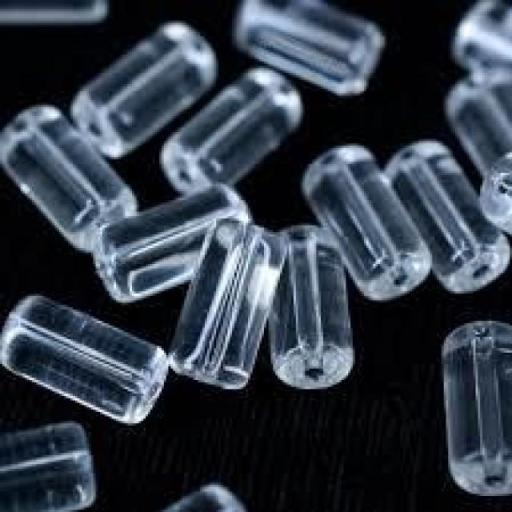glass: (174, 206, 284, 398), (4, 293, 163, 423), (4, 107, 133, 253), (71, 22, 211, 156), (305, 148, 425, 299), (388, 142, 504, 291), (98, 185, 245, 300), (162, 70, 296, 194), (268, 228, 354, 388), (239, 0, 382, 95), (444, 323, 510, 497), (0, 422, 94, 512), (448, 82, 512, 196), (454, 3, 510, 80)
